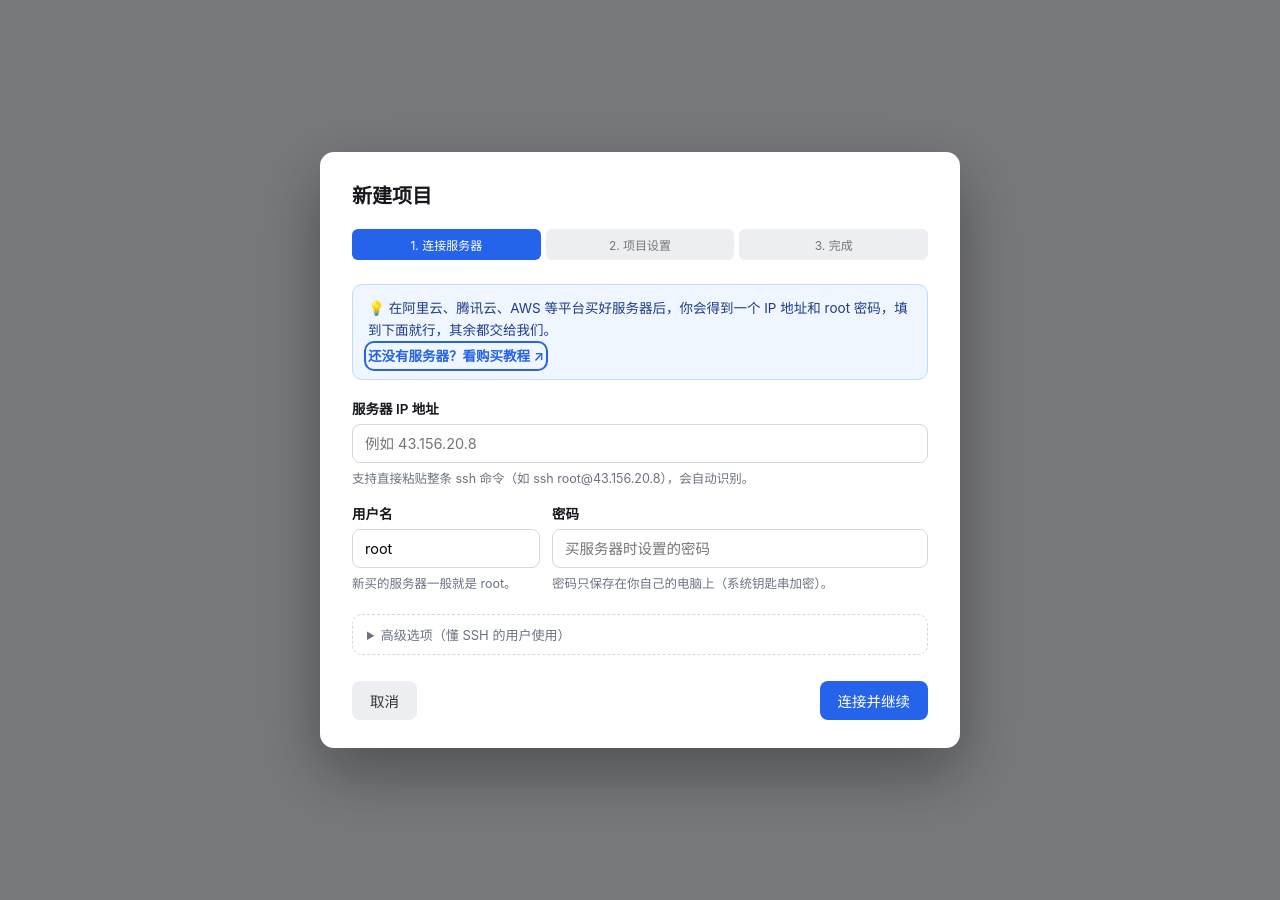
Test: 新建项目向导（5.3） › 粘贴整条 ssh 命令时自动拆填地址、用户名与端口，并提示已识别
Click the field labelled "服务器 IP 地址".
click(640, 444)  # box [352,424,928,463]
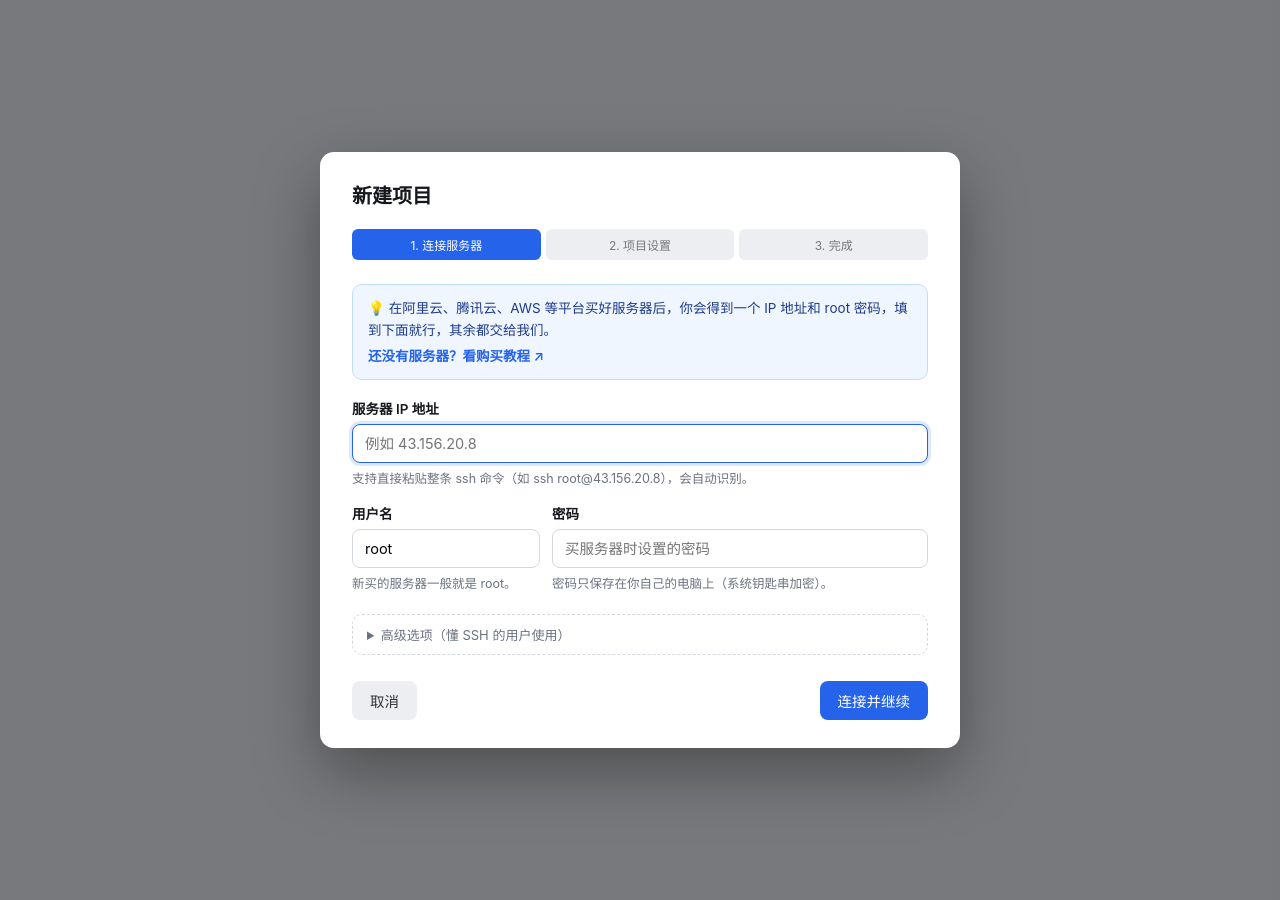
Type keys "ssh ubuntu@43.156.20.8 -p 2222"
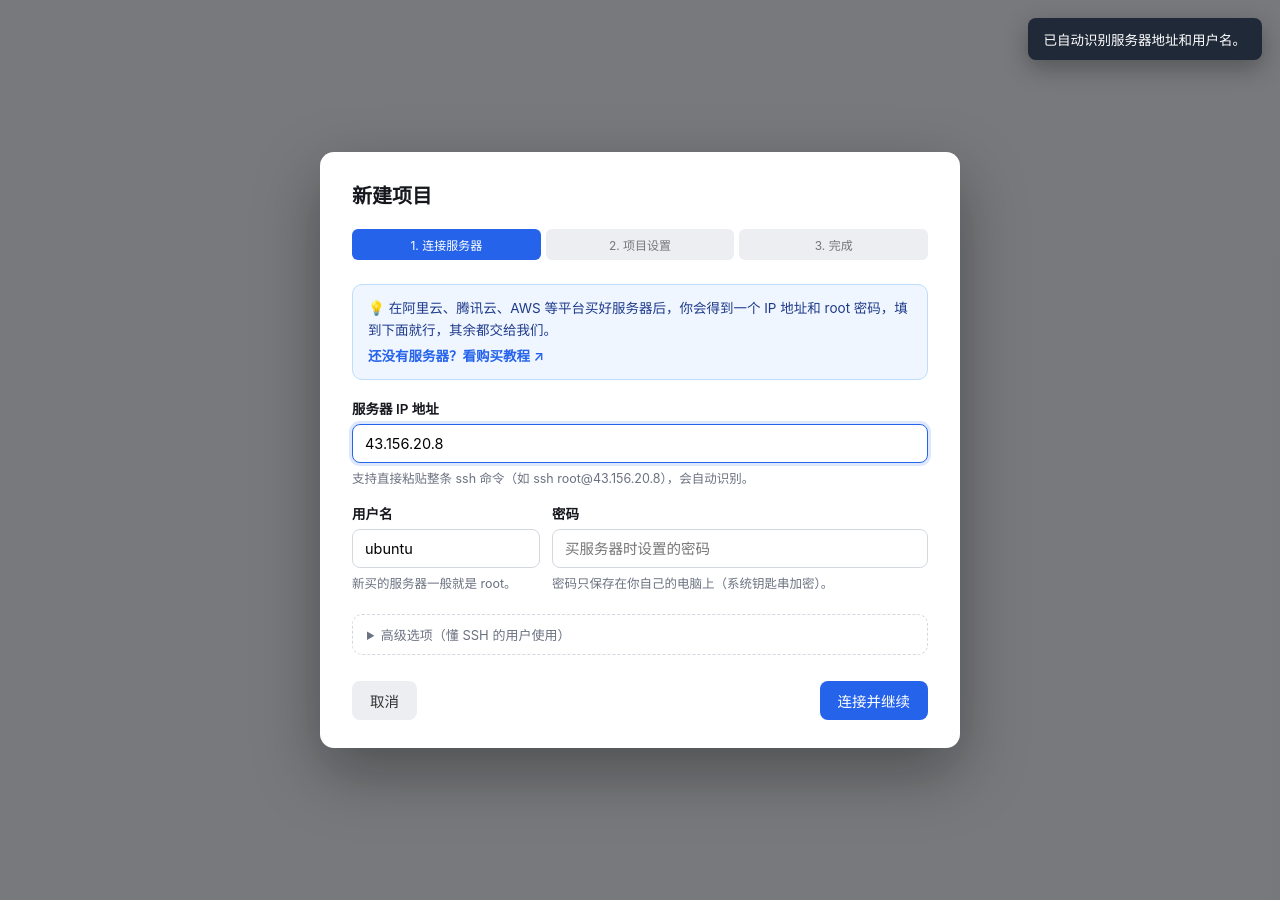
Check: the field labelled "服务器 IP 地址" holds "43.156.20.8", box [352,424,928,463]
Check: the field labelled "用户名" holds "ubuntu", box [352,529,540,568]
Check: the text "已自动识别服务器地址和用户名。" is shown, box [1044,29,1246,49]
Click the heading "高级选项（懂 SSH 的用户使用）".
click(476, 635)  # box [381,627,570,643]
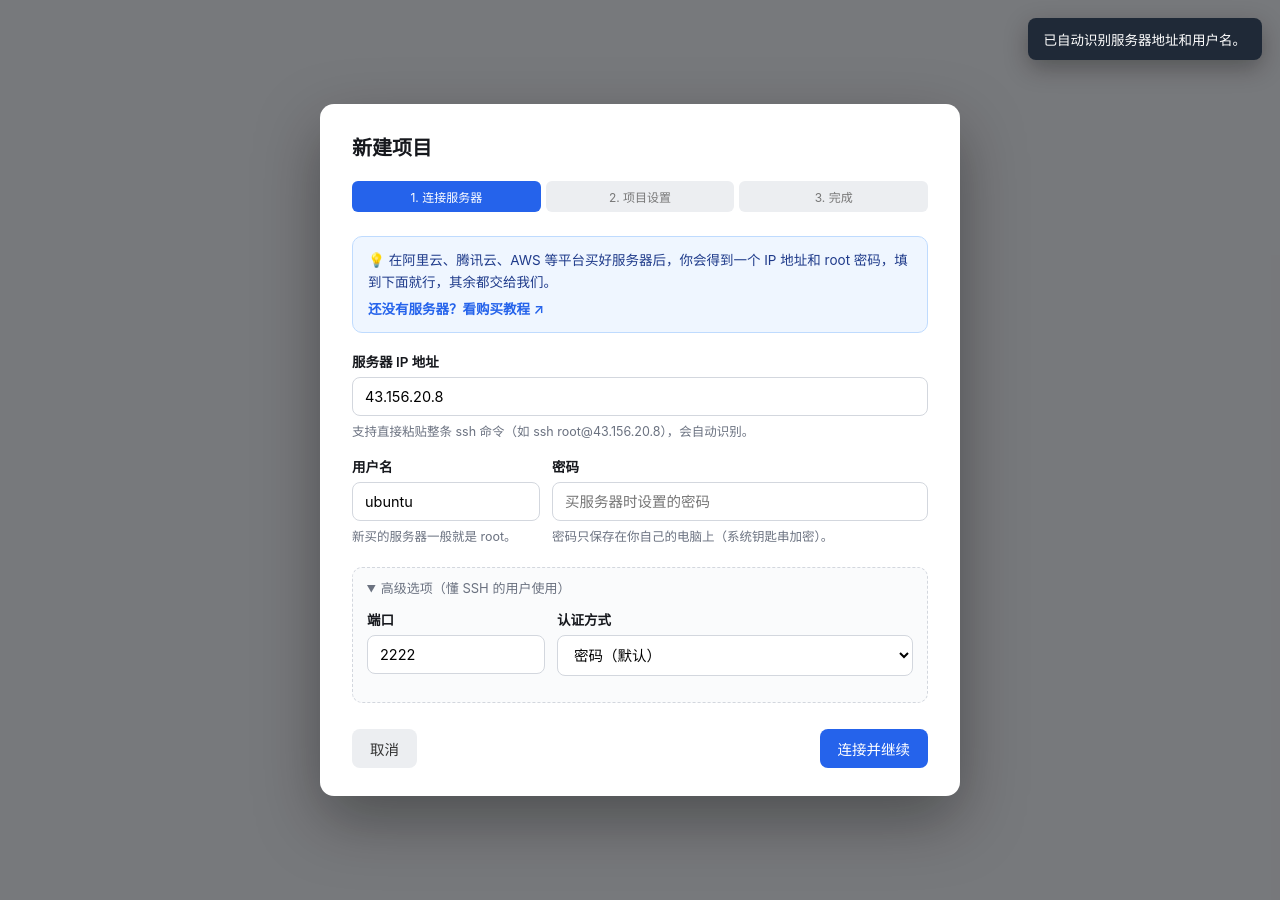
Check: the field labelled "端口" holds "2222", box [367,635,545,674]
